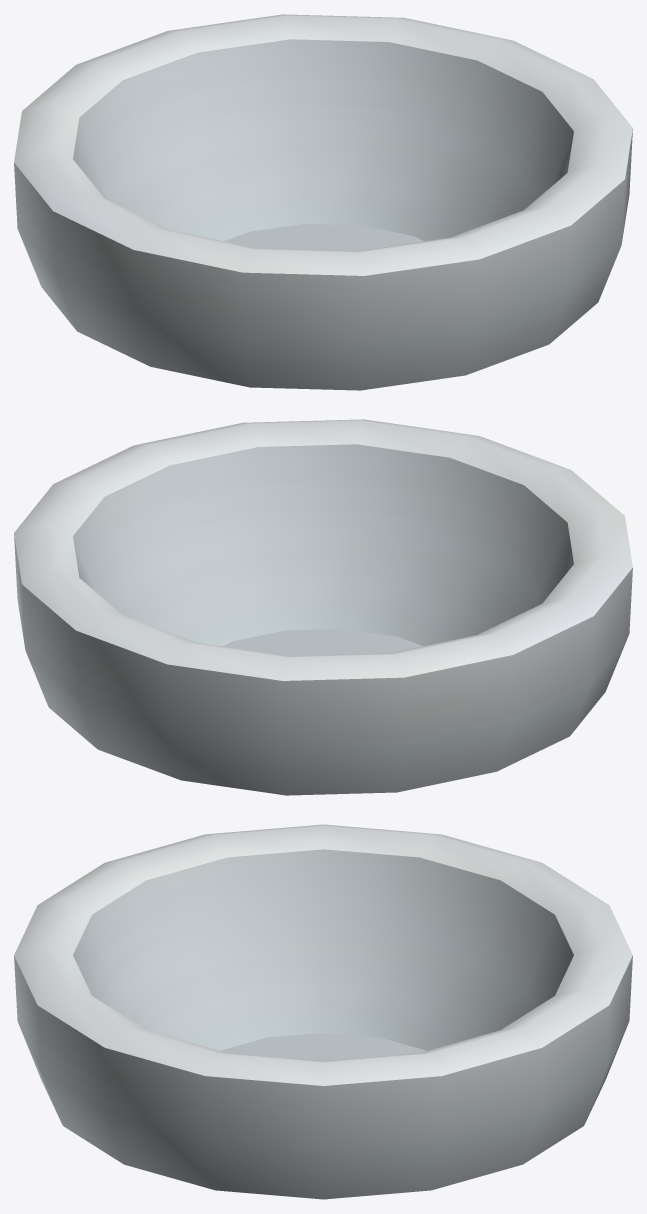
Rendered from skal.glb.
3 views of the same model, one above another, from view 1: azimuth 30°, elevation 25°; view 2: azimuth 150°, elevation 25°; view 3: azimuth 270°, elevation 25° (orthographic).
Visible parts, largest first — view 1: bowl; view 2: bowl; view 3: bowl.
Boxes of the visible parts, <box> form: bowl: <box>14,14,632,390</box>; bowl: <box>14,419,632,795</box>; bowl: <box>14,824,632,1199</box>.
Bounding box in the file's own units: 0.95 × 0.3 × 0.95.
Materials: 1 (1 with a texture image).
